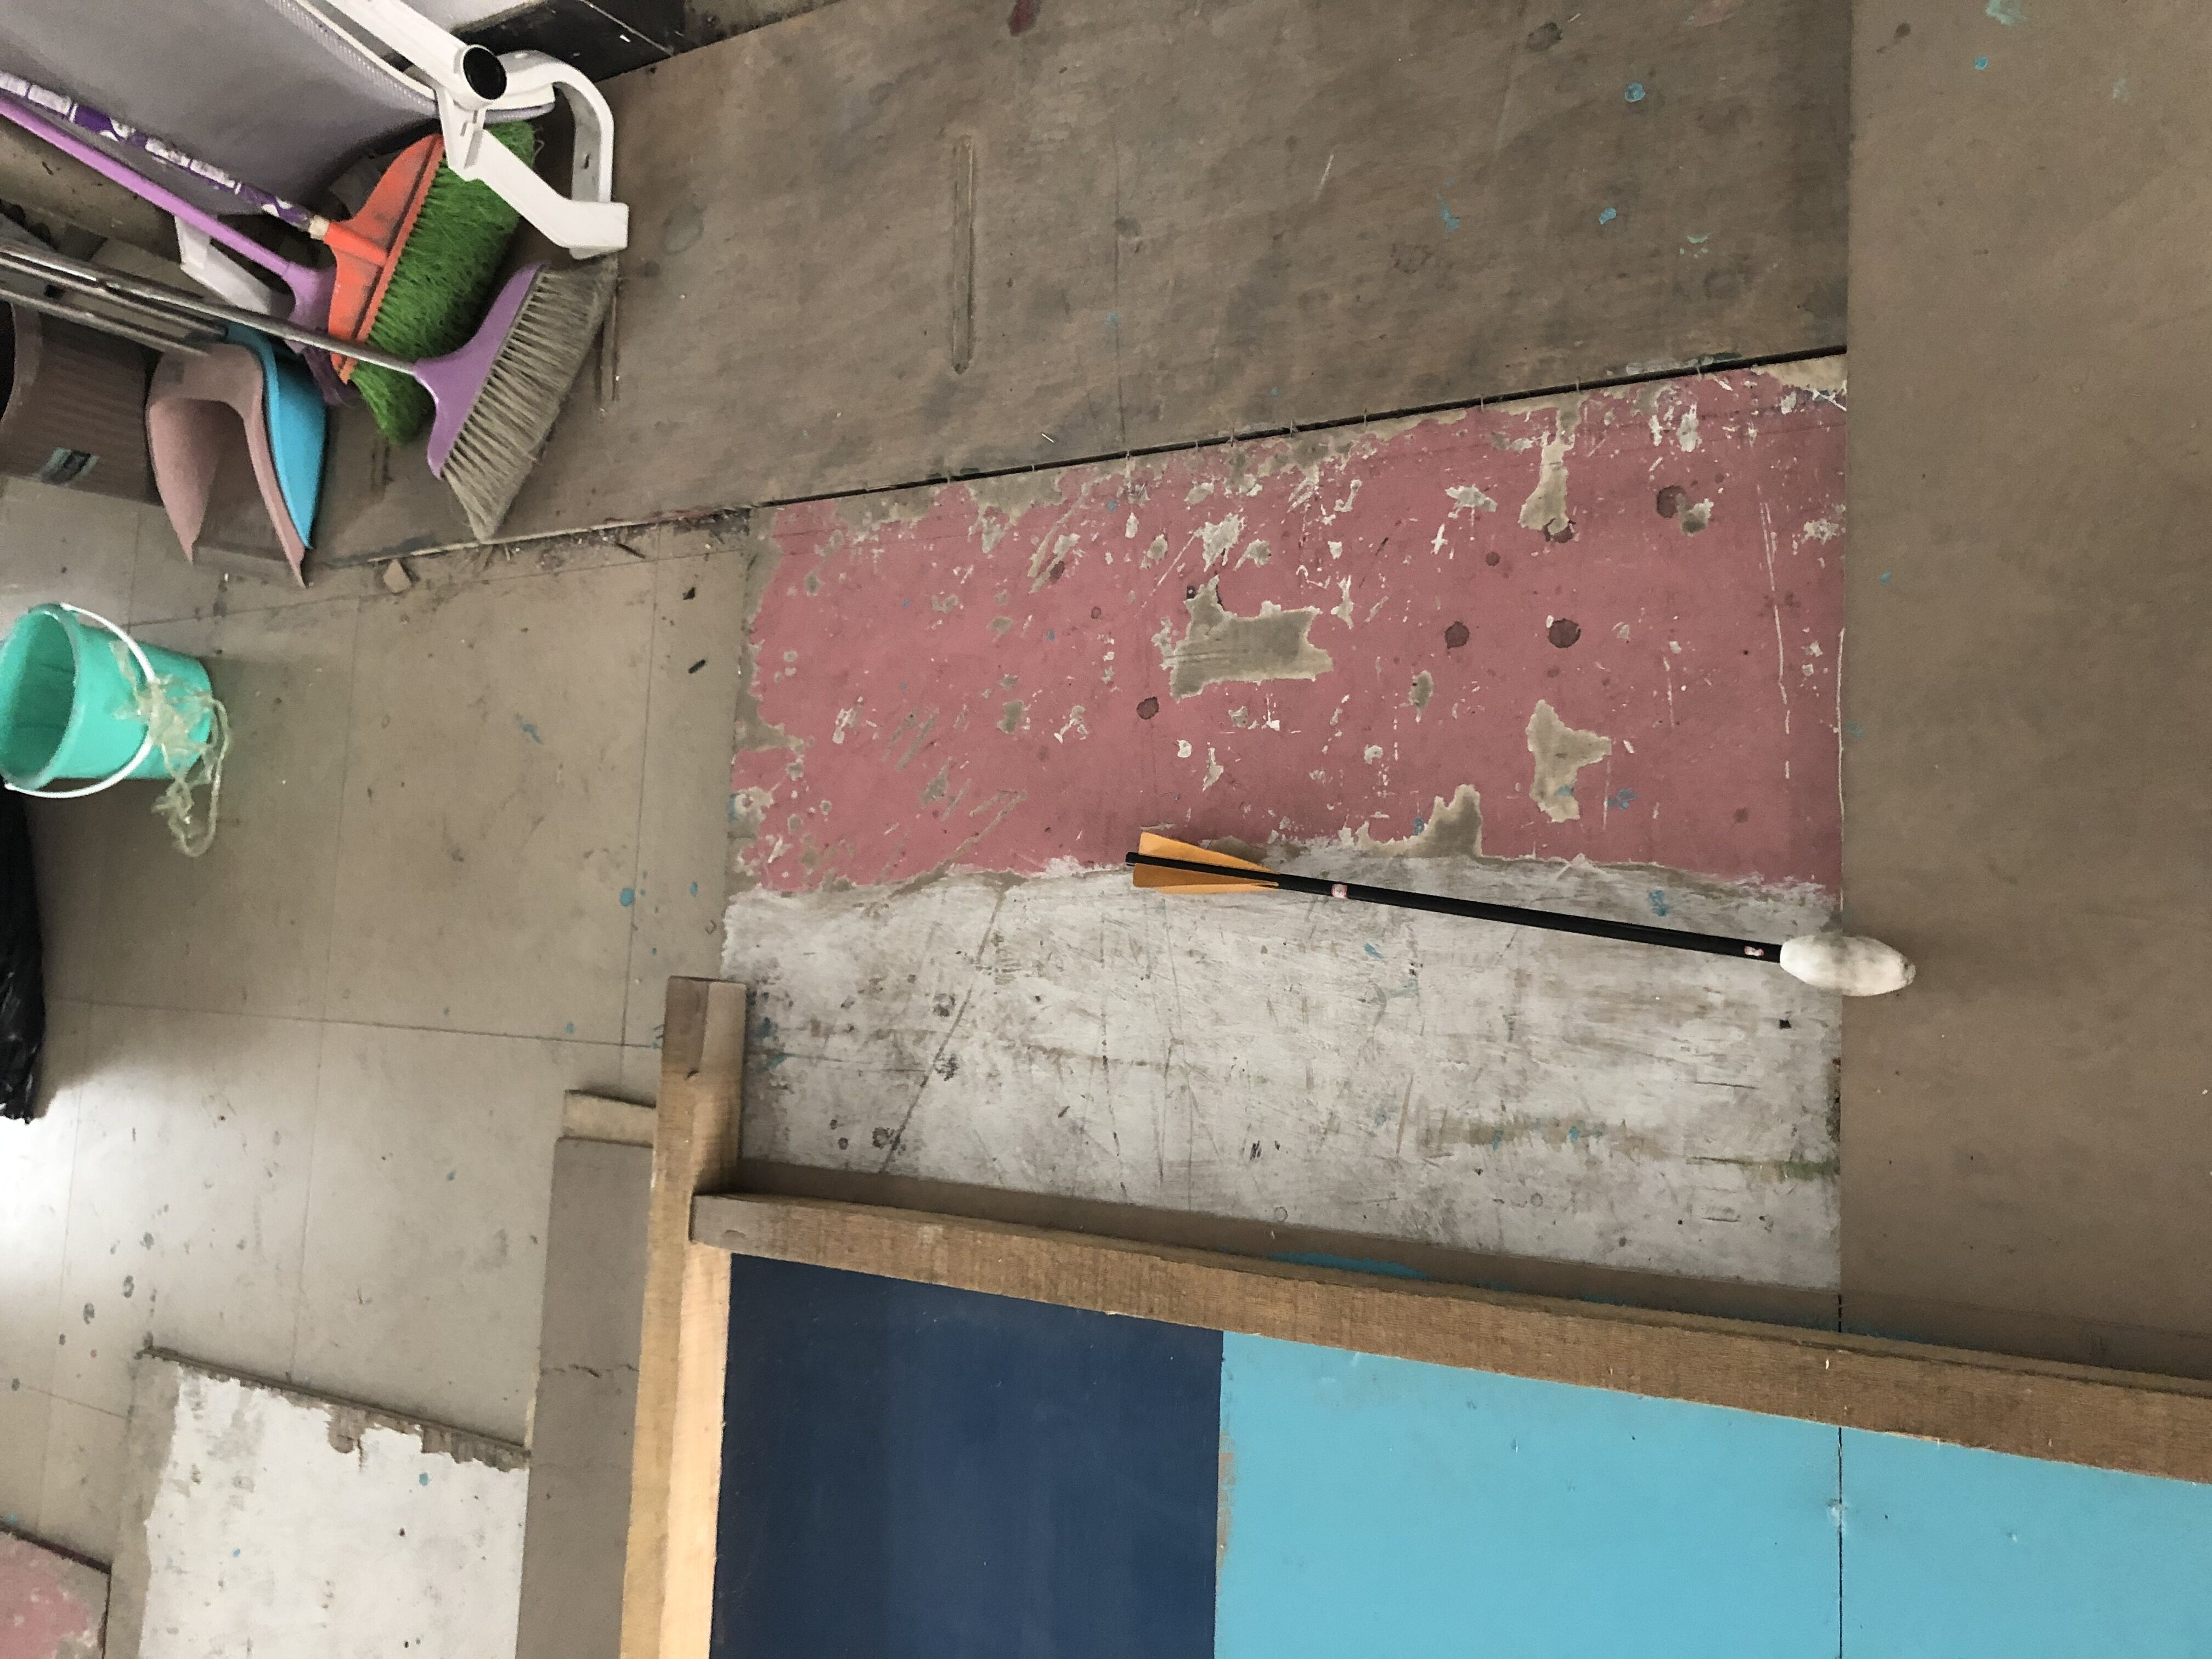arrow: (1127, 830, 1918, 999)
arrowFront: (1773, 934, 1921, 997)
